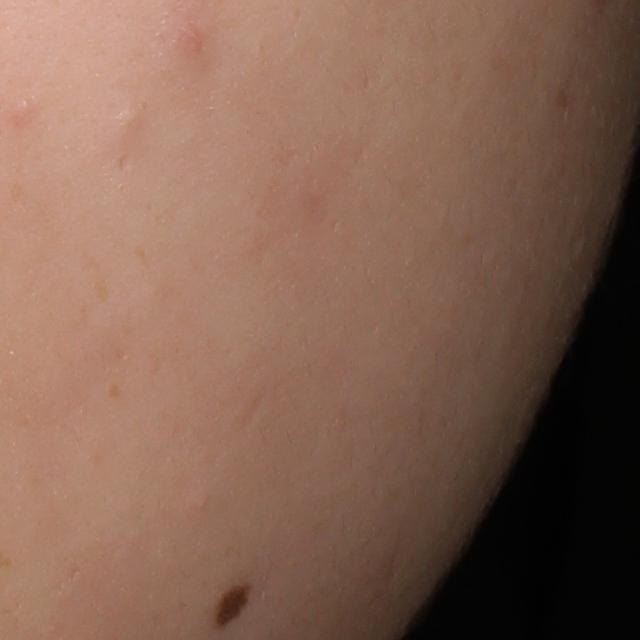comedo: (112, 102, 147, 135), (14, 93, 42, 119), (193, 489, 216, 516)
nevus: (213, 585, 251, 632)
